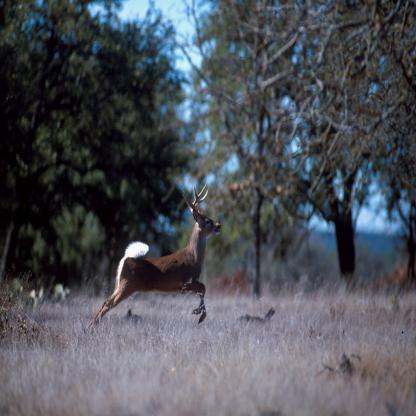Deer: (84, 181, 222, 332)
